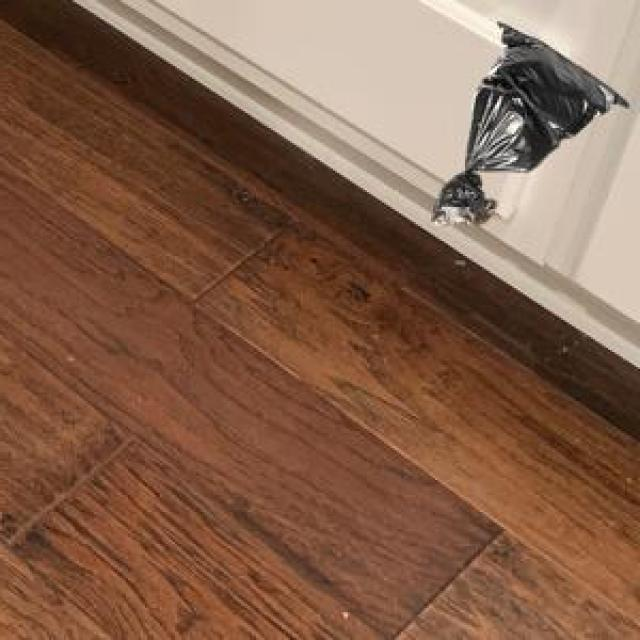Trashbag: (409, 14, 640, 241)
